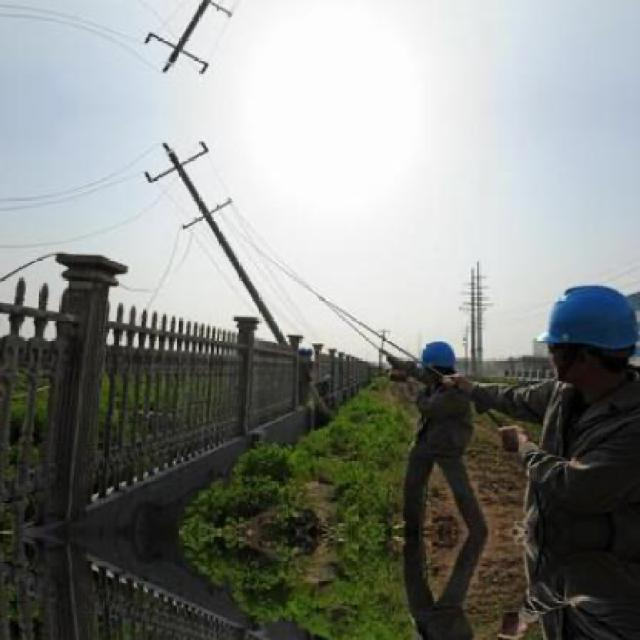con casco: (537, 284, 637, 372), (427, 331, 457, 401)
